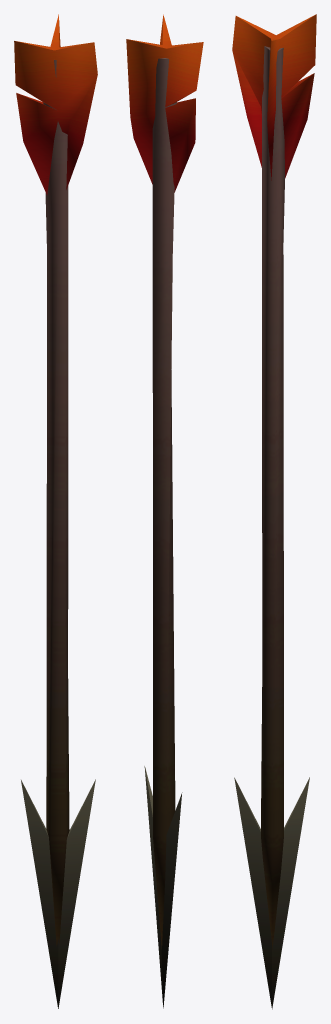
Rendered from goblinArrow_mdl.FBX.
3 renders of one model, left to right at view 1: azimuth 90°, elevation 25°; view 2: azimuth 210°, elevation 25°; view 3: azimuth 270°, elevation 25°, orthographic.
Visible parts, largest first — view 1: goblinArrow; view 2: goblinArrow; view 3: goblinArrow.
Part boxes in pixels (x1,y1,x2,y2): goblinArrow: [14, 14, 97, 1008]; goblinArrow: [126, 14, 203, 1008]; goblinArrow: [232, 14, 316, 1009].
Bounding box in the file's own units: 5.1 × 85.12 × 6.61.
